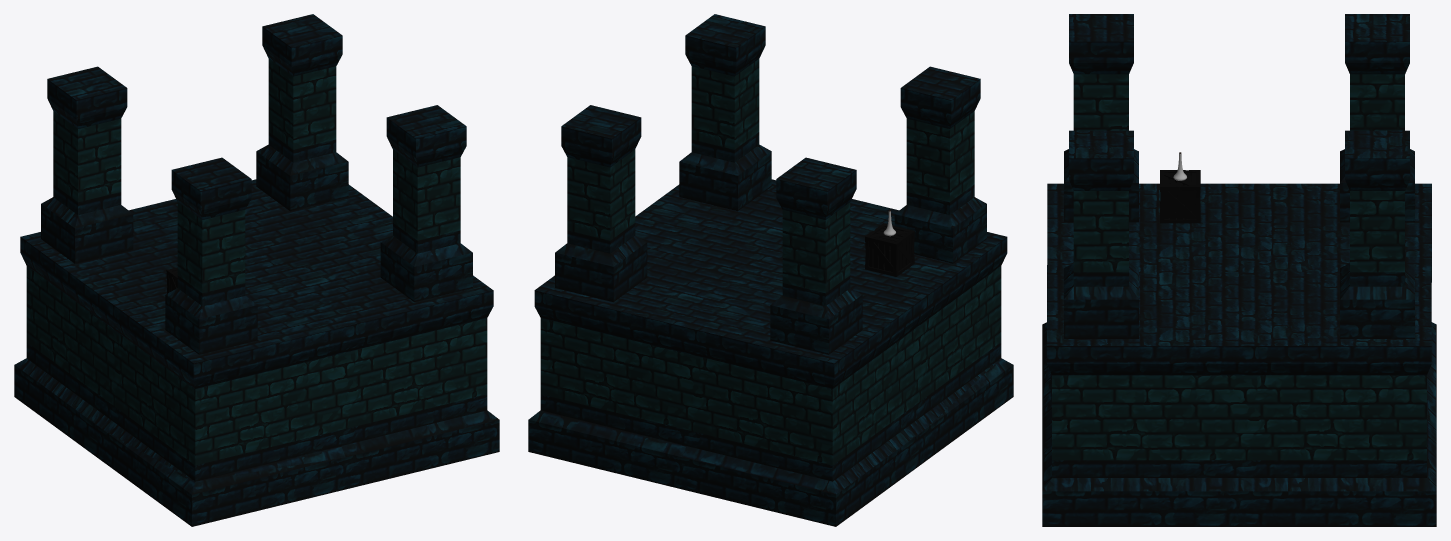
The model's file is tile-bottle.glb.
3 views of the same model, side by side, from view 1: azimuth 30°, elevation 25°; view 2: azimuth 150°, elevation 25°; view 3: azimuth 270°, elevation 25° (orthographic). The views are drawn at different scales.
Visible parts, largest first — view 1: mergedBlocks(Clone); view 2: mergedBlocks(Clone); view 3: mergedBlocks(Clone).
Part boxes in pixels (box(x1,y1,x2,y2)): mergedBlocks(Clone): box(14, 14, 499, 526); mergedBlocks(Clone): box(528, 14, 1013, 526); mergedBlocks(Clone): box(1042, 14, 1436, 526).
Size of the model in its own units: 2 by 2 by 2.
Materials: 6 (2 with a texture image).
